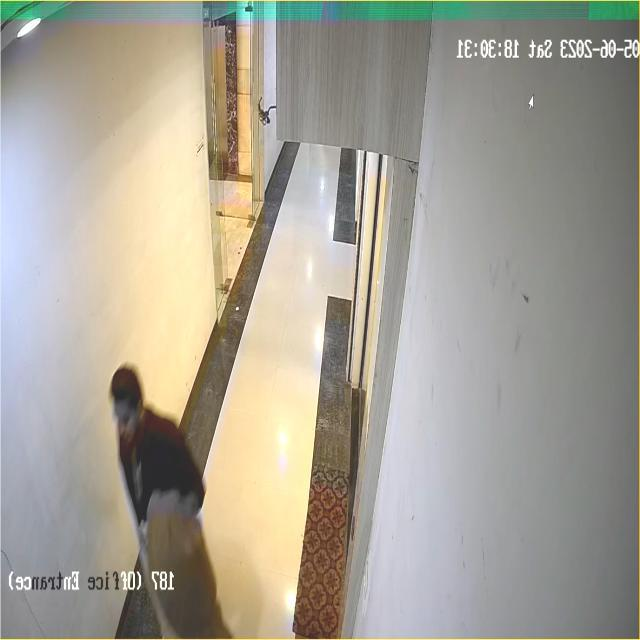gunny_bag: (144, 496, 234, 638)
